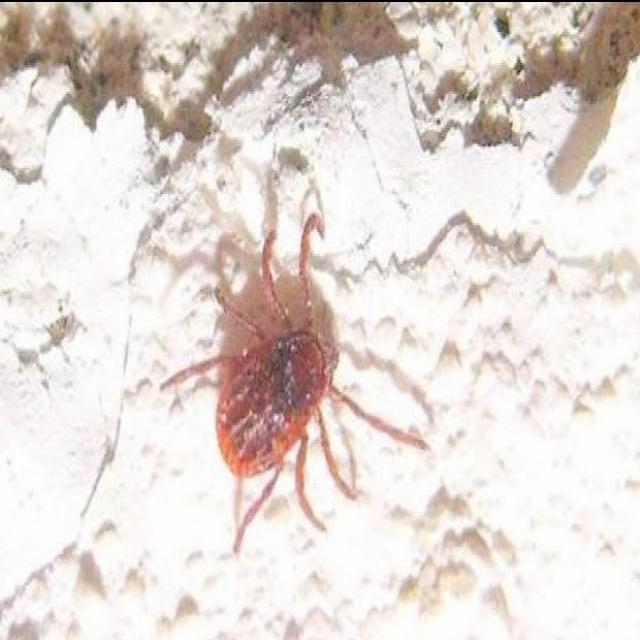Rhipicephalus Sanguineus-F: (159, 152, 430, 550)
